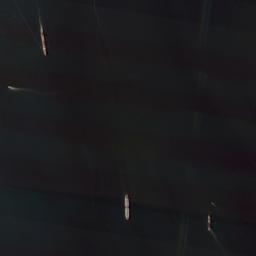boat: (38, 25, 49, 57), (123, 192, 133, 222), (208, 213, 211, 233), (212, 202, 218, 209), (6, 85, 12, 90), (16, 11, 20, 13)
